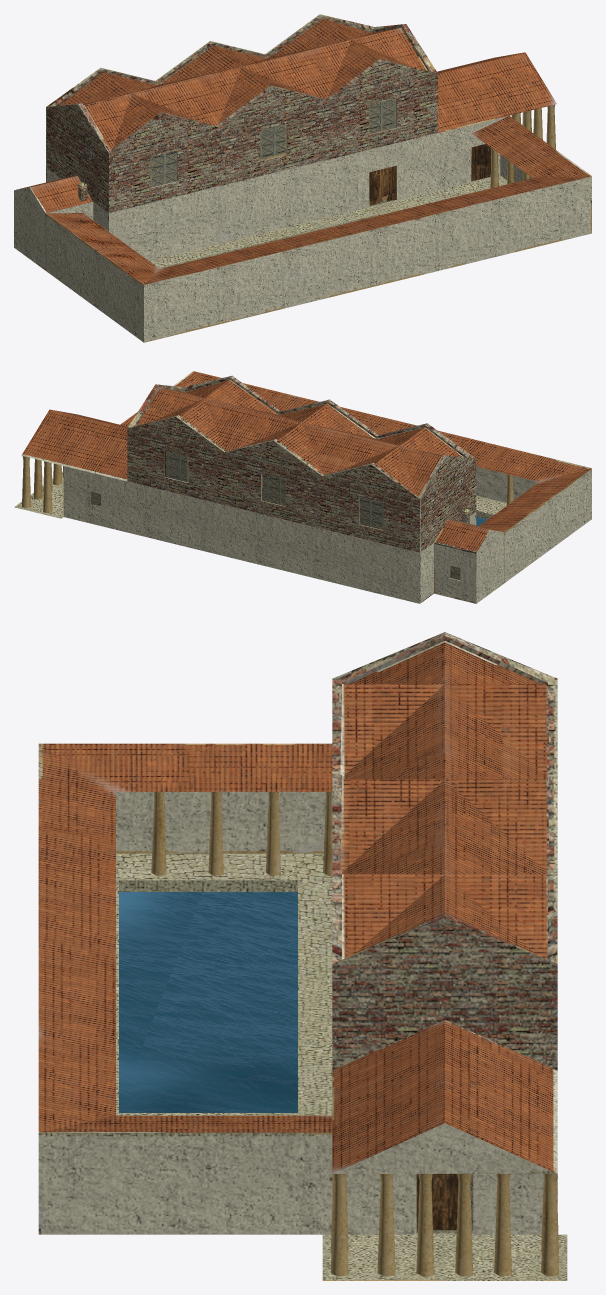
The model's file is terme 1.fbx.
The picture shows the model from 3 angles, top to bottom: view 1: azimuth 30°, elevation 25°; view 2: azimuth 150°, elevation 25°; view 3: azimuth 270°, elevation 25°; orthographic projection. The views are drawn at different scales.
Visible parts, largest first — view 1: baths_0; view 2: baths_0; view 3: baths_0, pool_1.
Part boxes in pixels (<box>): baths_0: <box>14,14,591,342</box>; baths_0: <box>14,371,591,603</box>; baths_0: <box>38,632,567,1280</box>; pool_1: <box>119,892,297,1112</box>.
Bounding box in the file's own units: 269 × 81.36 × 138.
Materials: 2 (2 with a texture image).
